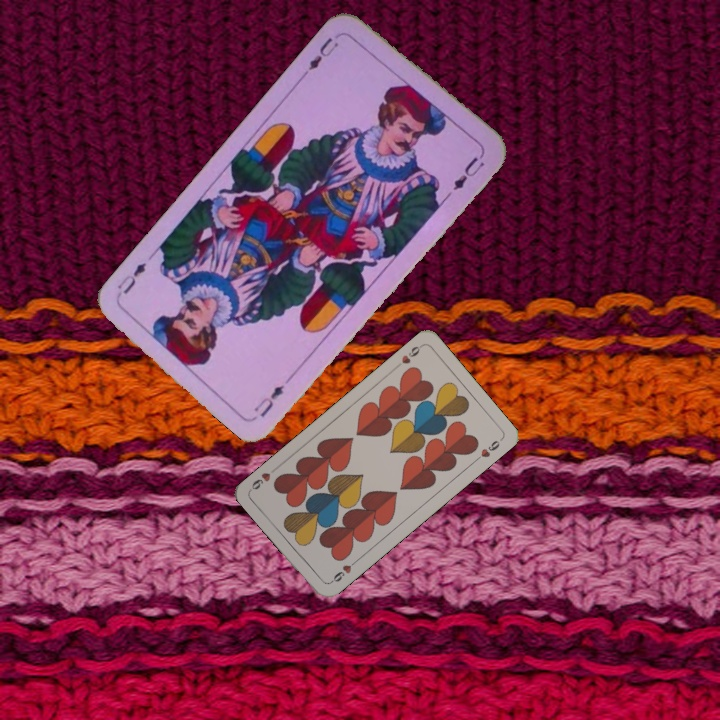EU: (301, 33, 342, 79), (250, 380, 287, 420)
H9: (391, 341, 425, 371), (326, 556, 360, 586)
